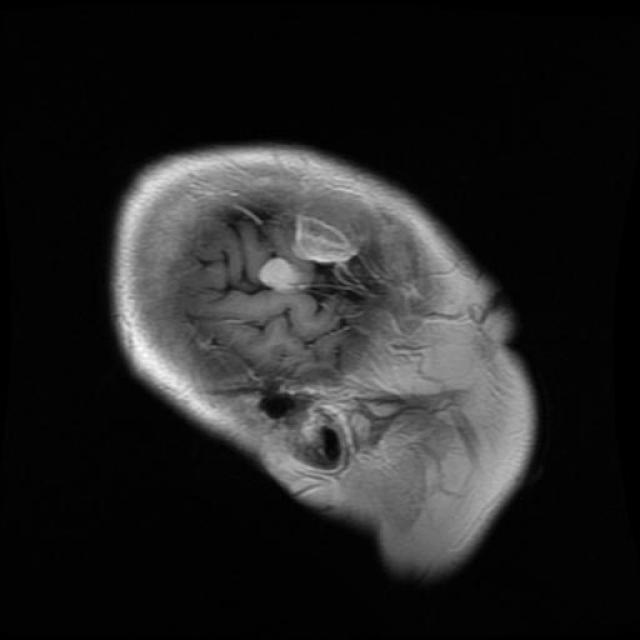meningioma: (260, 258, 302, 292)
